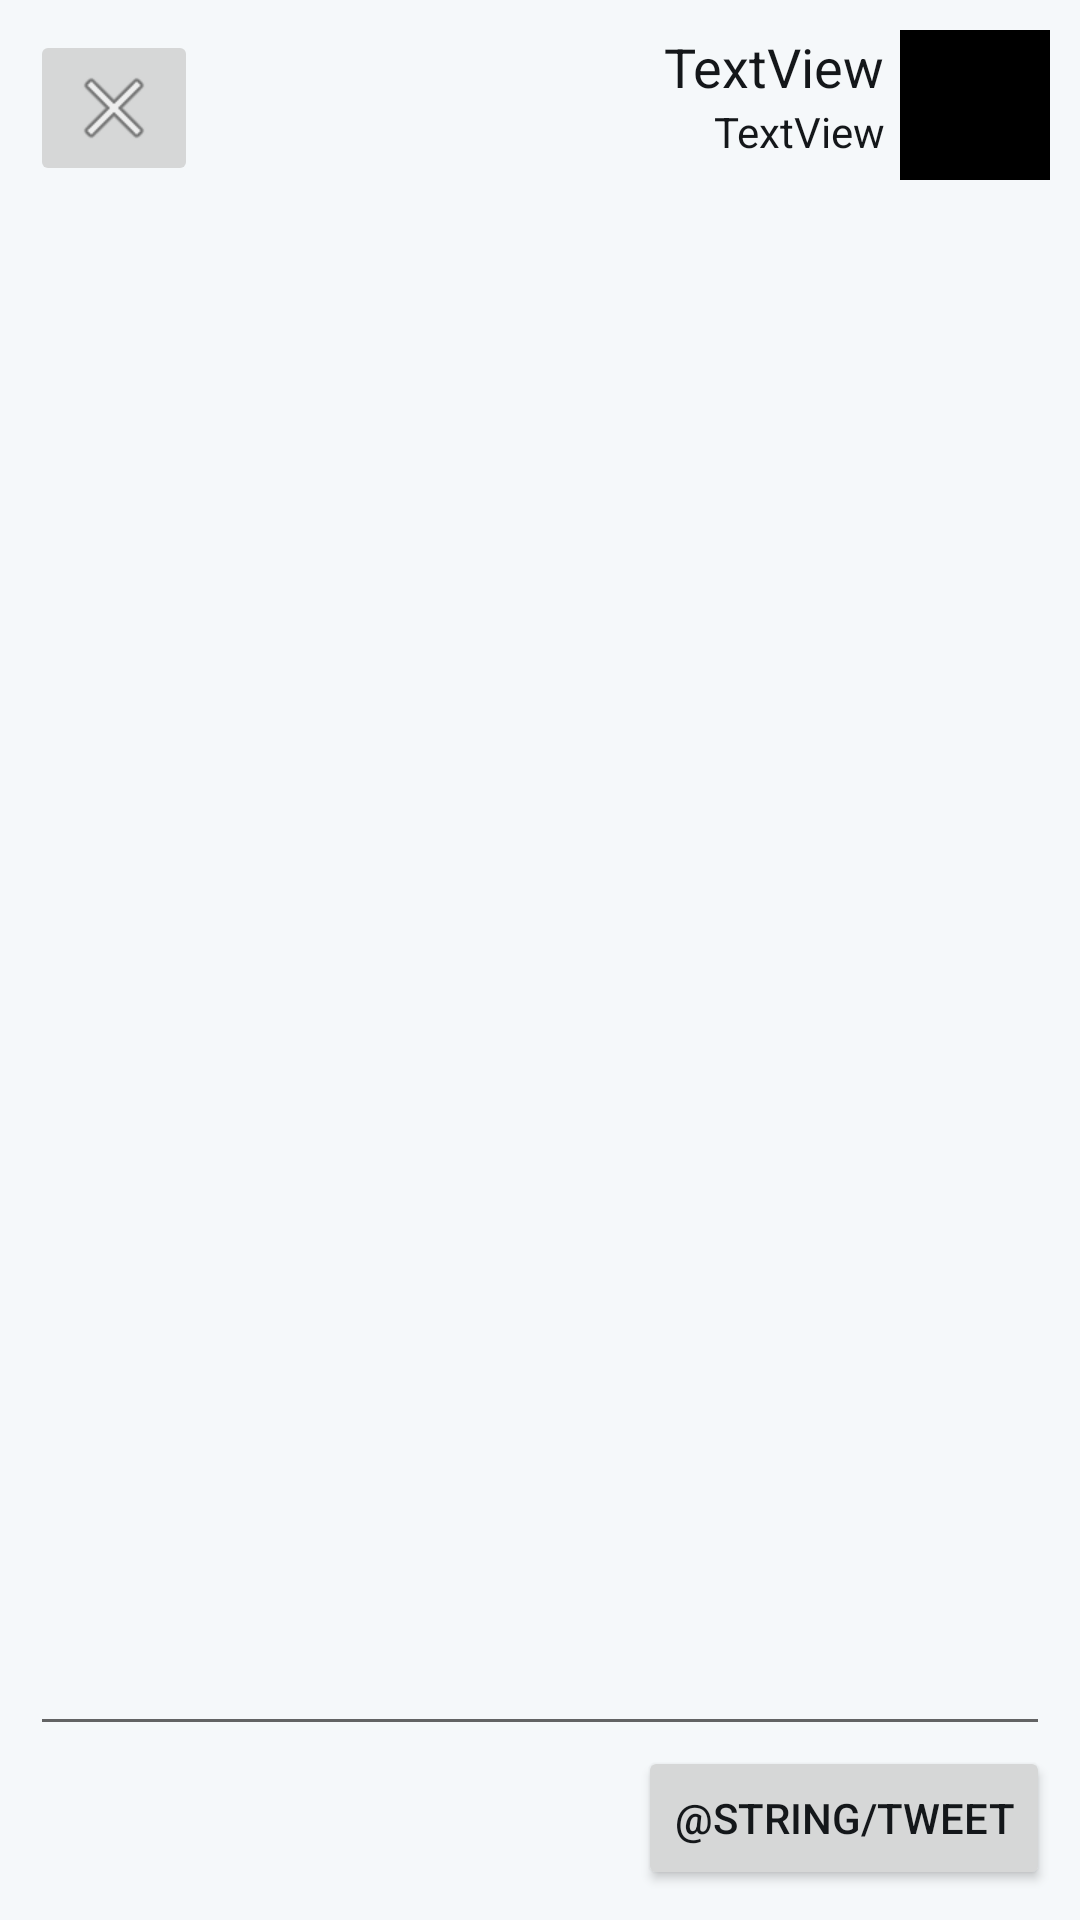

Point at icon controls on the screen. Image size 1080x1920, points as (x,y).
close clear cancel: (114,108)
